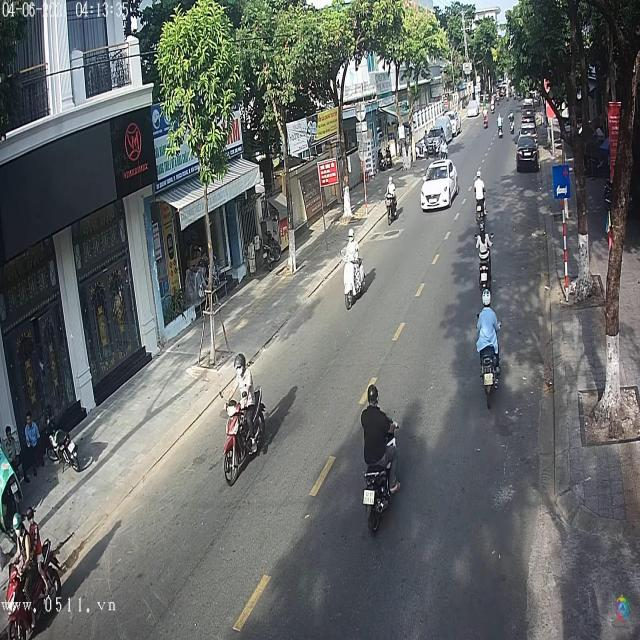car: (419, 161, 460, 212), (516, 135, 539, 178)
motorcycle: (222, 386, 267, 488), (364, 444, 401, 531), (477, 323, 502, 408), (343, 248, 366, 308), (476, 239, 495, 294), (385, 188, 400, 229)
